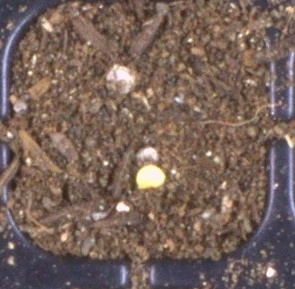chilli seed: (135, 164, 166, 190)
